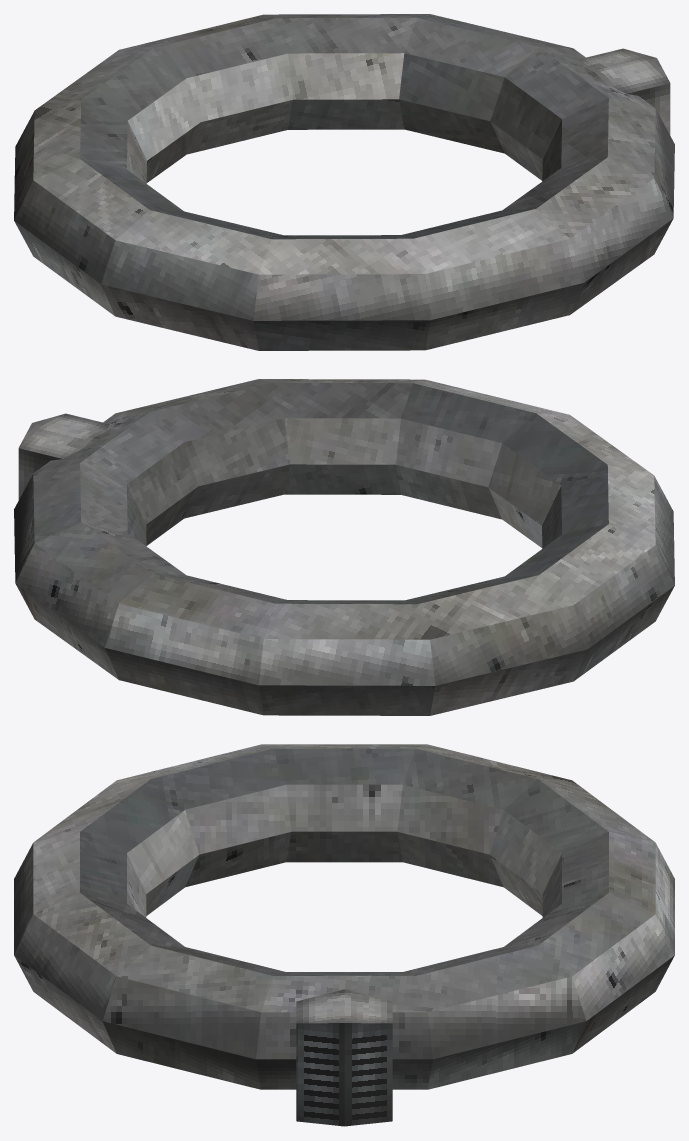
The model's file is lhc.gltf.
3 renders of one model, top to bottom at view 1: azimuth 30°, elevation 25°; view 2: azimuth 150°, elevation 25°; view 3: azimuth 270°, elevation 25°, orthographic.
Visible parts, largest first — view 1: torus, mesh; view 2: torus, mesh; view 3: torus, mesh.
Boxes of the visible parts, <box> form: torus: <box>14,14,674,350</box>; mesh: <box>579,48,670,134</box>; torus: <box>14,379,674,715</box>; mesh: <box>18,413,109,499</box>; torus: <box>14,744,674,1089</box>; mesh: <box>296,989,392,1126</box>.
Bounding box in the file's own units: 7.31 × 1.26 × 6.88.
Materials: 1 (1 with a texture image).
